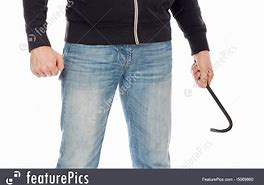crowbar: (190, 58, 235, 135)
